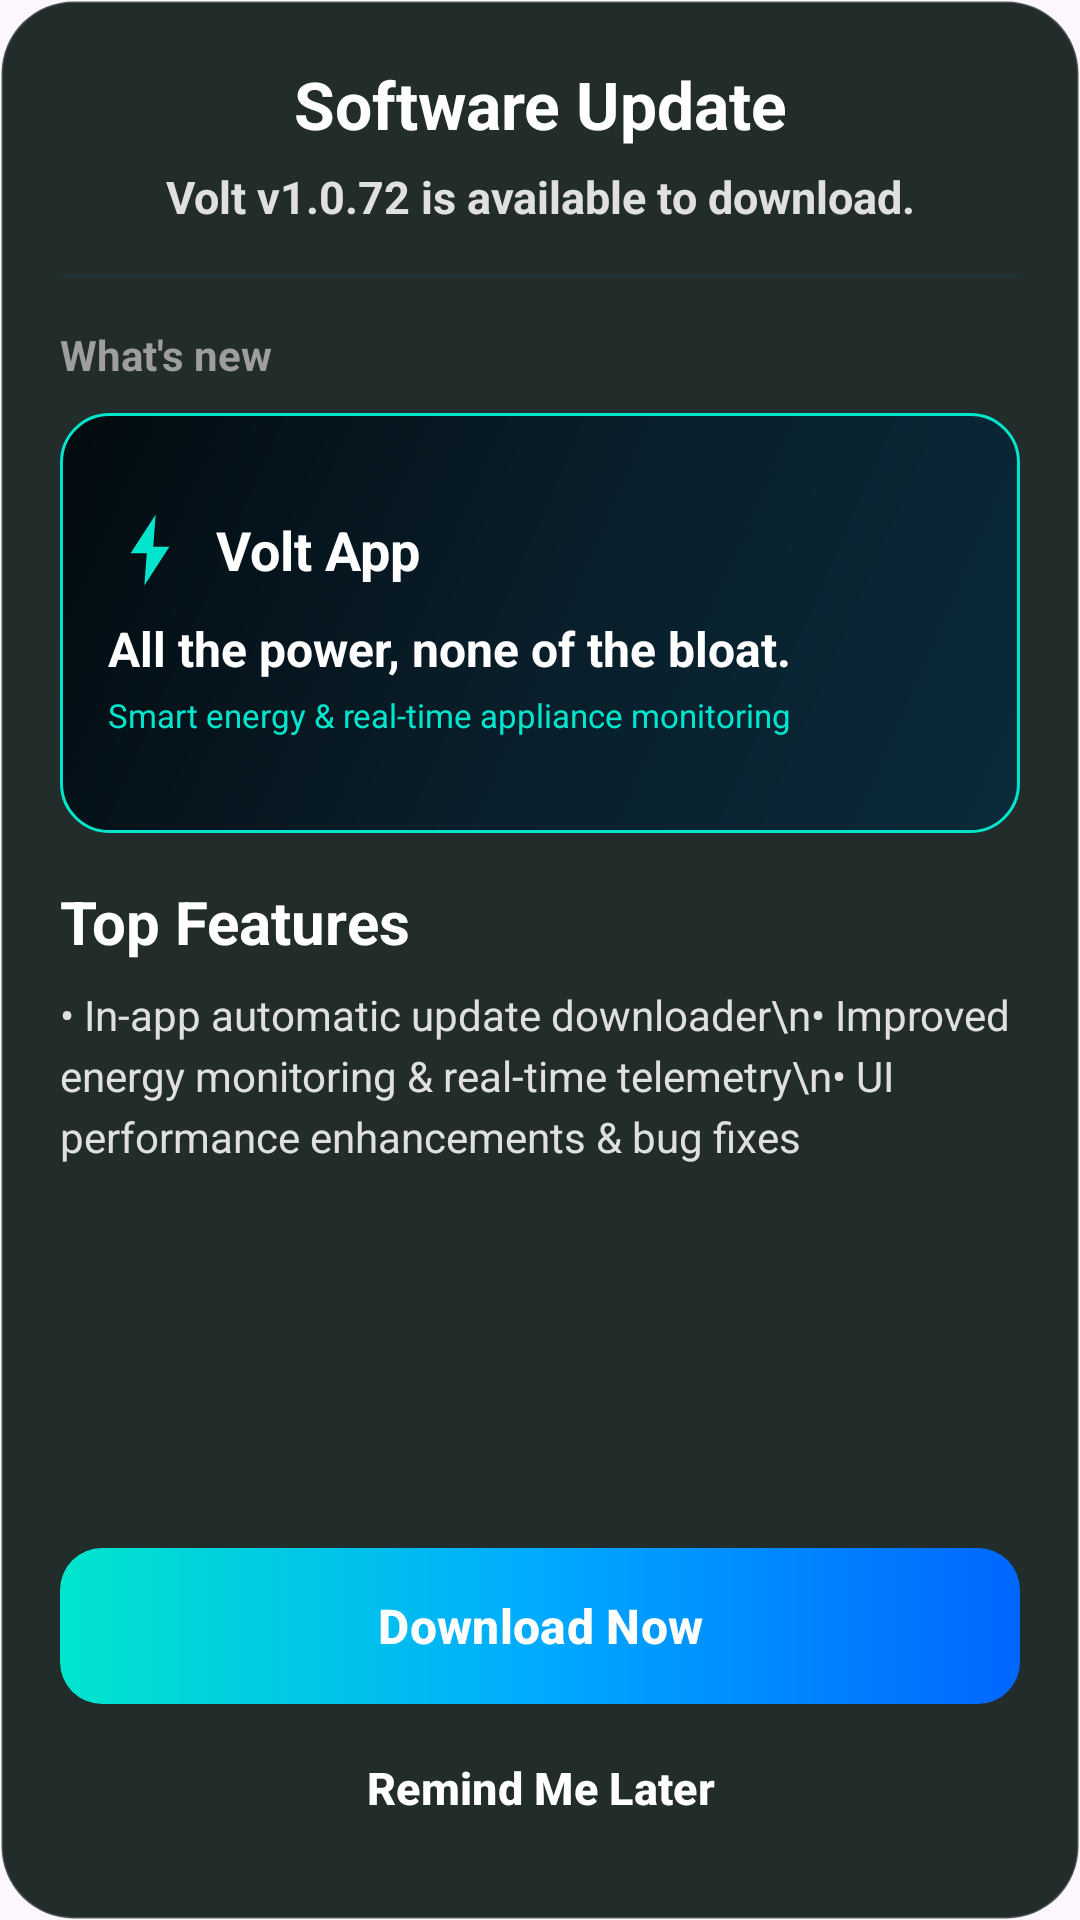

Where icons sit on this 1080px x 1920px app screen, as bbox(x1, y1, x2, y2):
bolt: bbox(131, 515, 169, 585)
